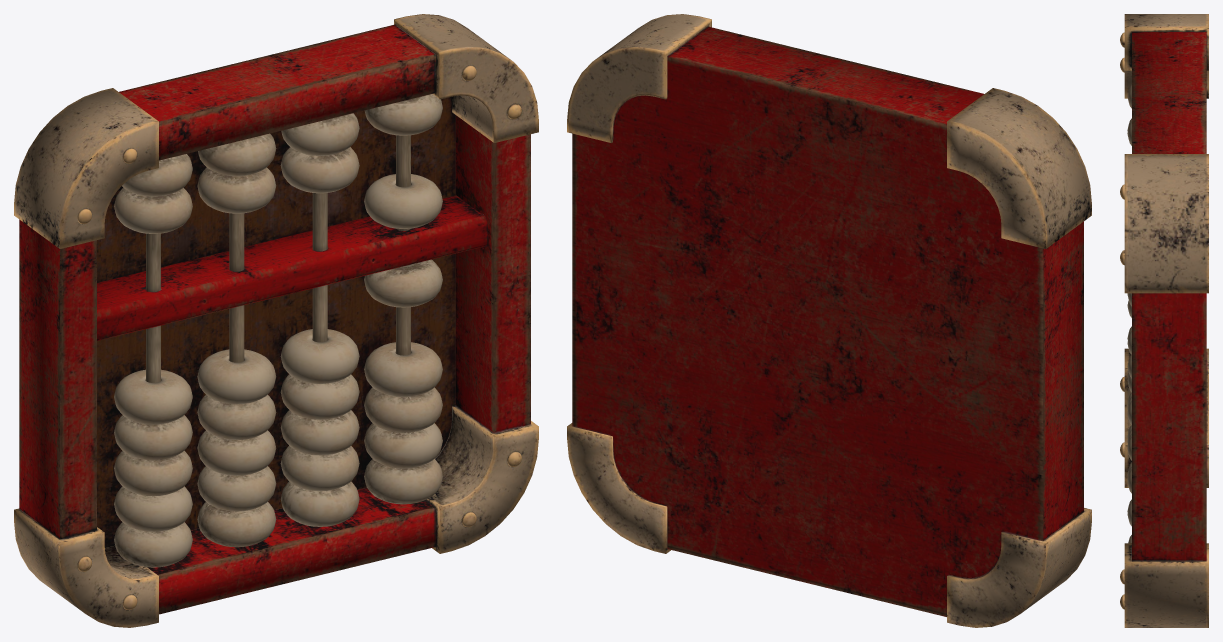
The picture shows the model from 3 angles, left to right: view 1: azimuth 30°, elevation 25°; view 2: azimuth 150°, elevation 25°; view 3: azimuth 270°, elevation 25°; orthographic projection. The views are drawn at different scales.
Parts seen in each view (by area): view 1: Suanpan_low; view 2: Suanpan_low; view 3: Suanpan_low.
Part boxes in pixels (bbox=[...]): Suanpan_low: bbox=[14, 14, 538, 627]; Suanpan_low: bbox=[567, 14, 1091, 627]; Suanpan_low: bbox=[1120, 14, 1208, 627].
Size of the model in its own units: 2 by 2 by 0.3501.
Materials: 1 (1 with a texture image).
